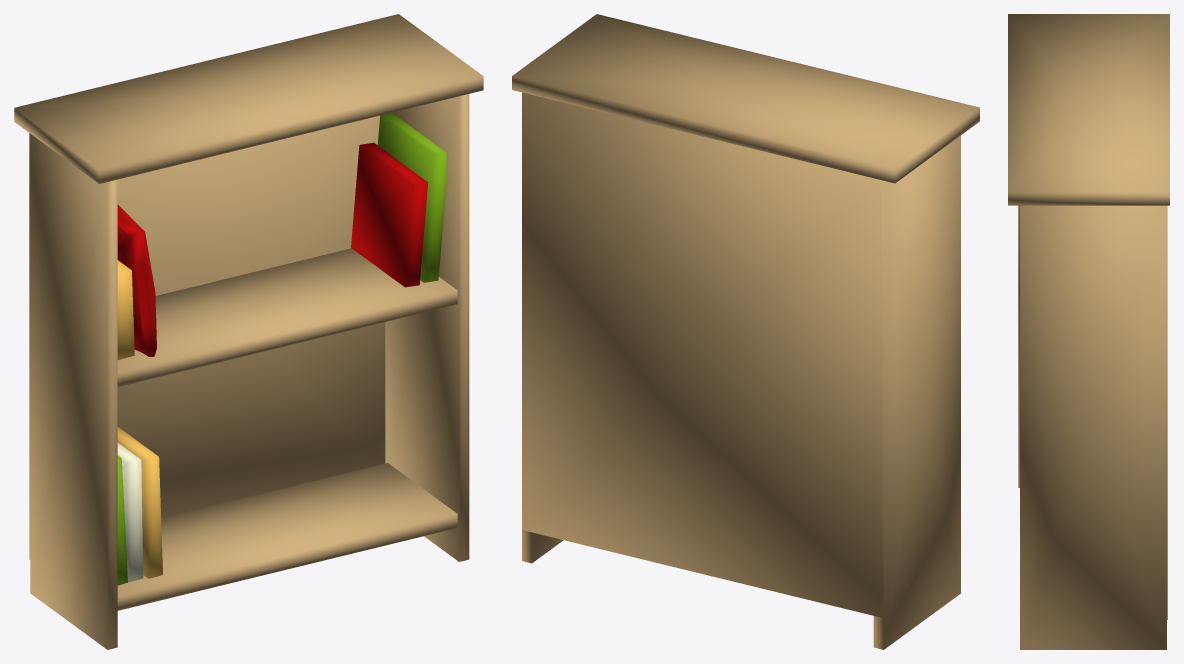
Rendered from bookShelf.gltf.
3 renders of one model, left to right at view 1: azimuth 30°, elevation 25°; view 2: azimuth 150°, elevation 25°; view 3: azimuth 270°, elevation 25°, orthographic. The views are drawn at different scales.
Parts seen in each view (by area): view 1: red_book; view 2: red_book; view 3: red_book.
Boxes of the visible parts, box(x1,y1,x2,y2) form: red_book: box(14, 14, 483, 649); red_book: box(512, 14, 979, 649); red_book: box(1008, 14, 1169, 649).
Bounding box in the file's own units: 1.08 × 1.3 × 0.4125.
